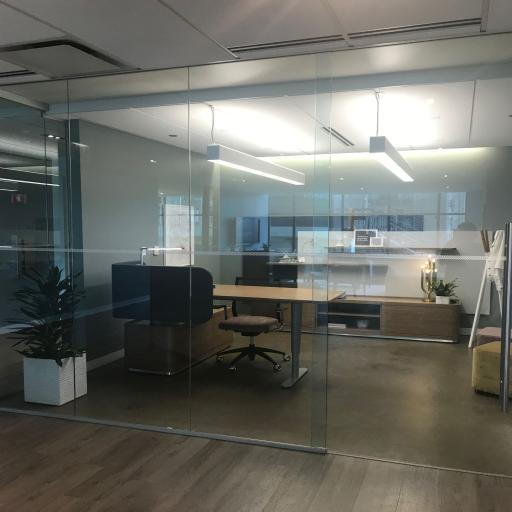bus: (217, 301, 290, 371)
elevator: (0, 37, 511, 474)
stroller: (214, 285, 344, 388)
